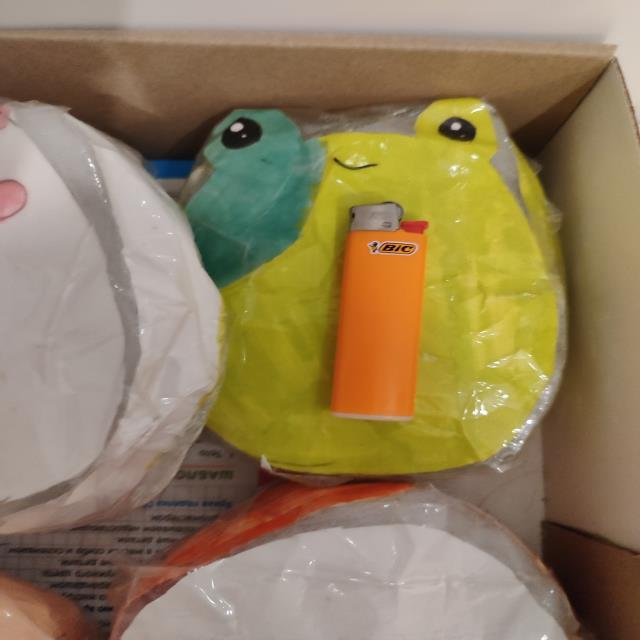lighter: (330, 203, 427, 420)
